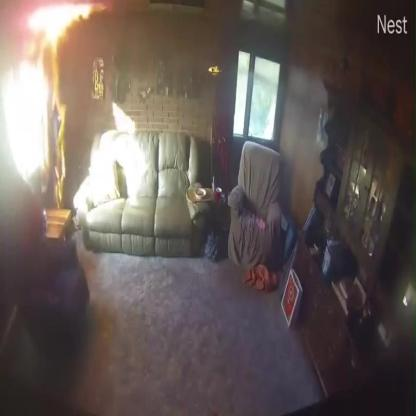fire: (22, 3, 93, 51), (47, 52, 66, 205)
